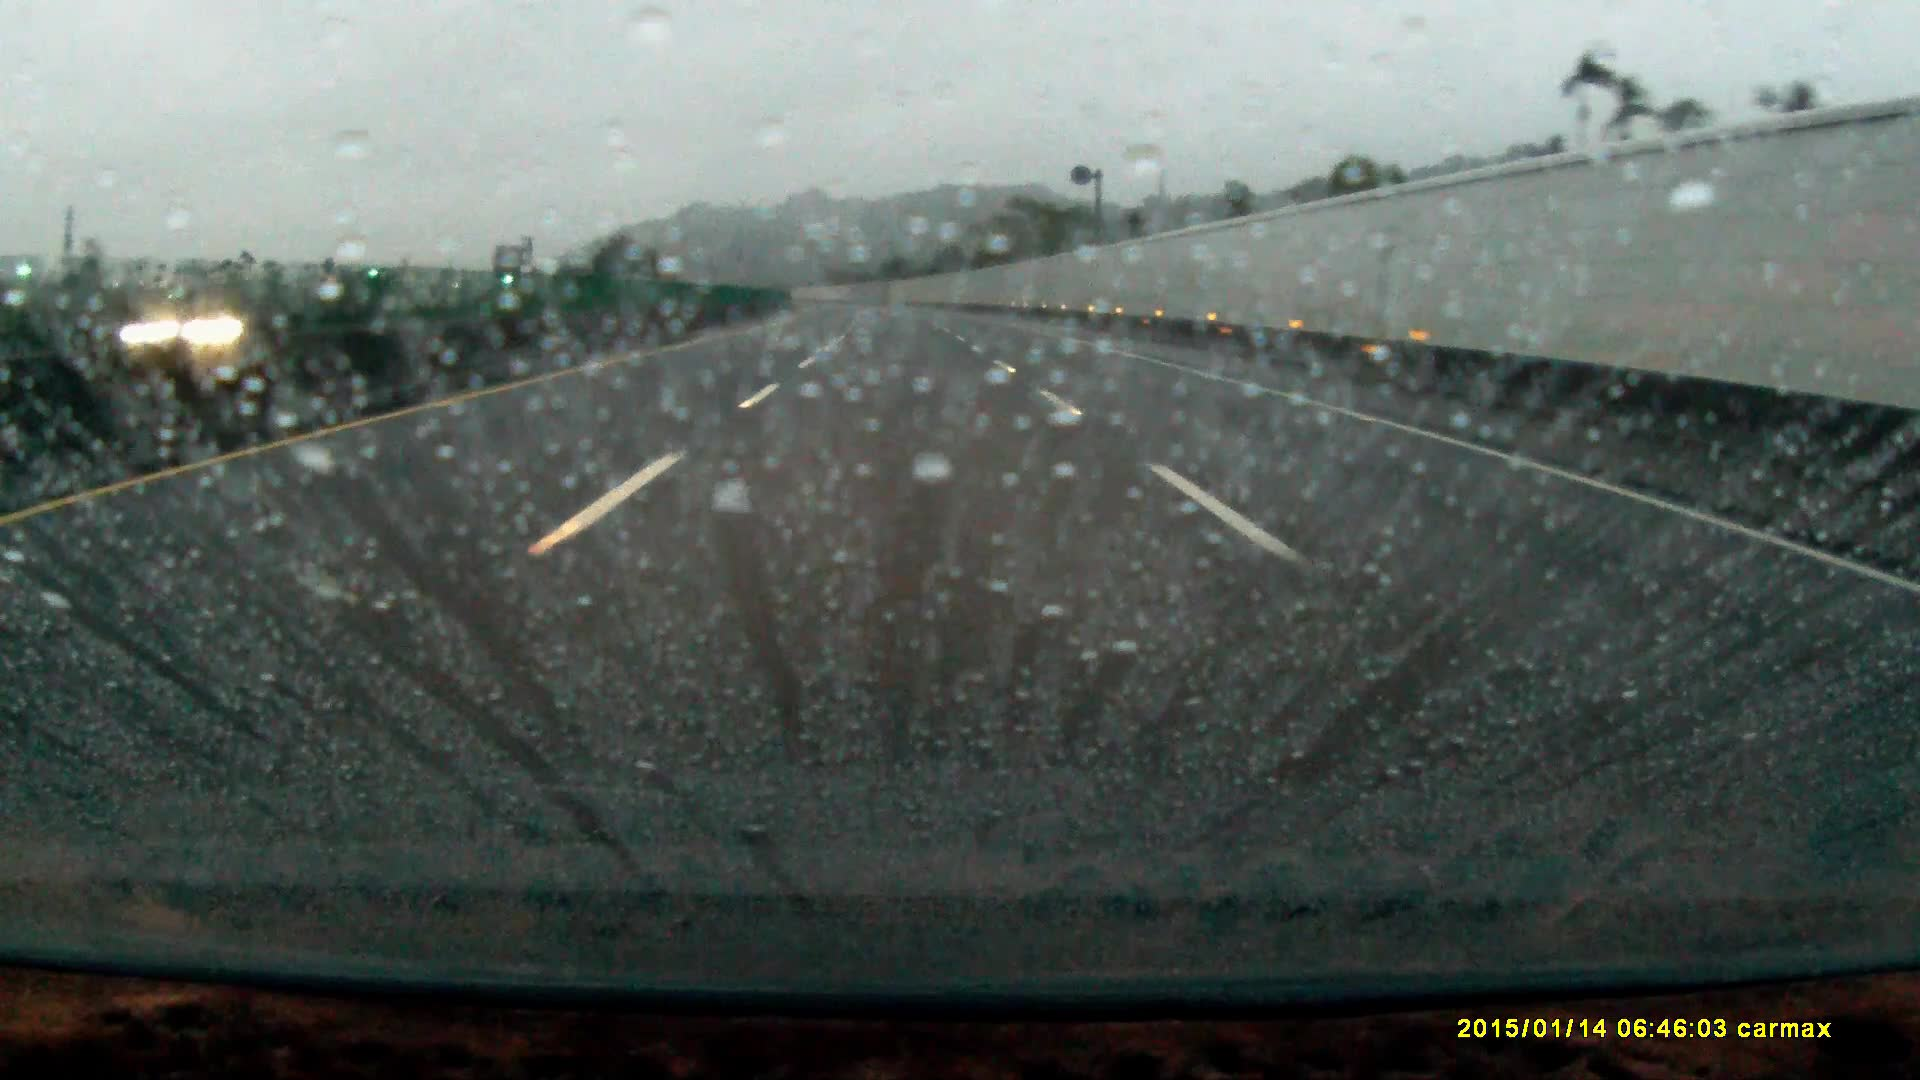vehicle: (112, 290, 241, 357)
